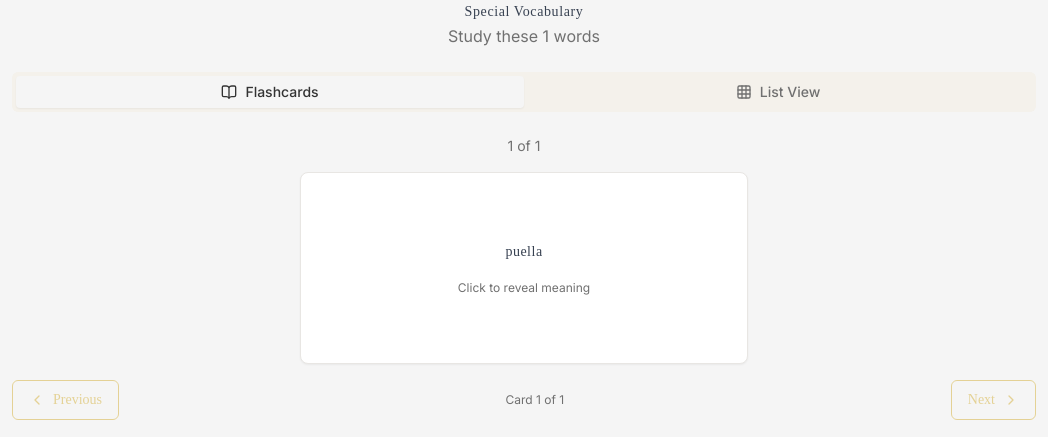
Test case: vocabulary presentation › ignores legacy studyMode and opens in Flashcards while retaining the student tabs
The image size is (1048, 437).
Check: the text "Special Vocabulary" is shown, box [465,4,583,19]
Check: the text "Click to reveal meaning" is shown, box [458,280,590,296]
Click the tab "List View". click: (778, 92)
box: [524,76,1032,108]
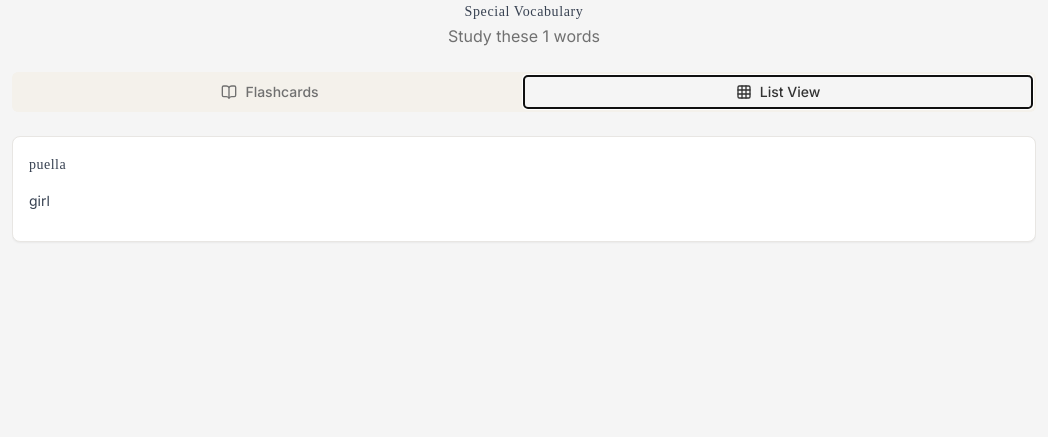
Check: the text "girl" is shown, box [29,192,50,209]
